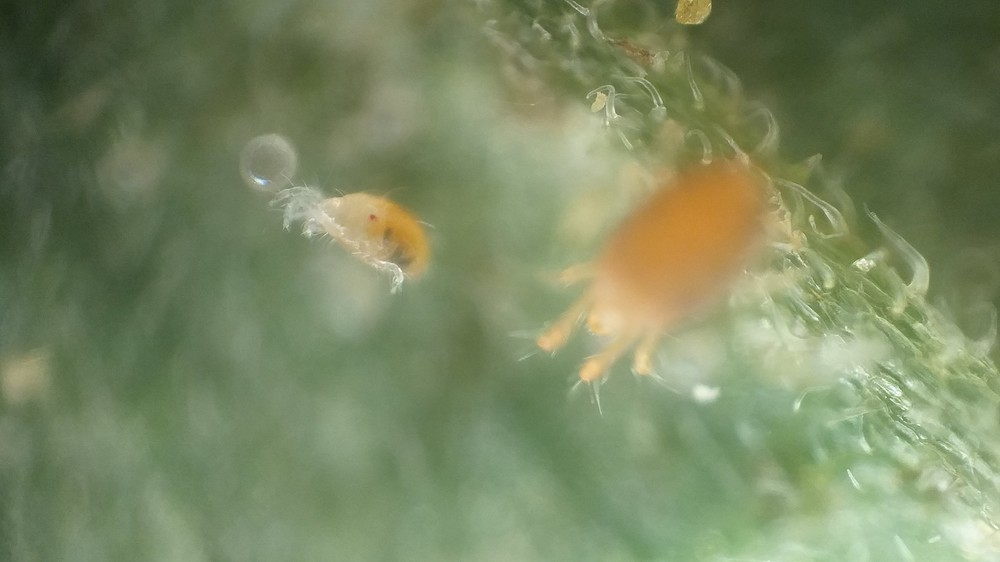Aracnido Rojo: (273, 156, 444, 327)
